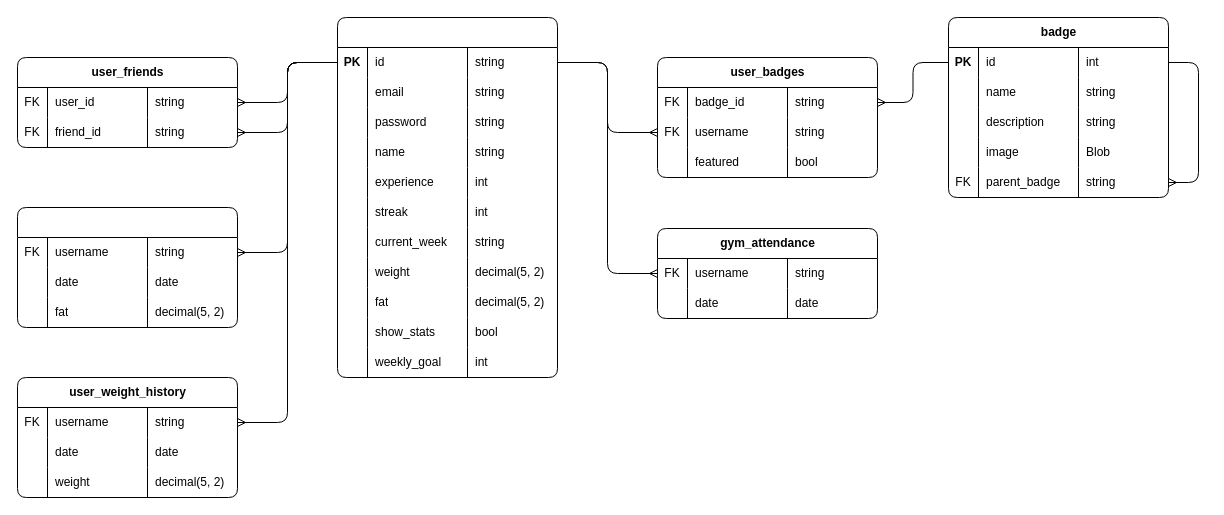
Some shapes in this 1224 by 515 pixel diagram are drawn without their labels. The box of each missing label's shape, as (x1, y1, x2, y2) in pixels:
fat_history: (16, 206, 238, 328)
user: (336, 16, 558, 378)
